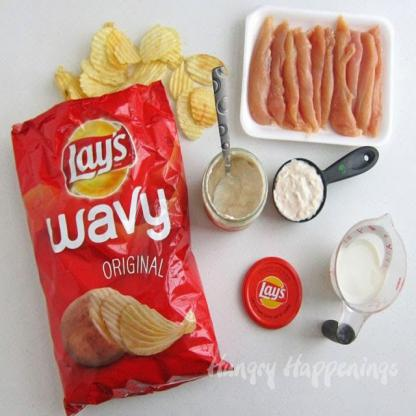potatochip: (2, 72, 238, 415)
